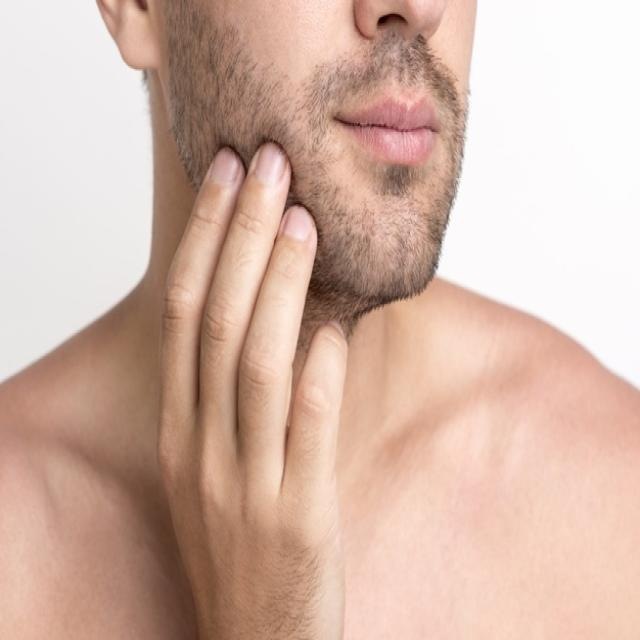Nail: (256, 143, 286, 185), (285, 205, 314, 243), (211, 149, 240, 186)
